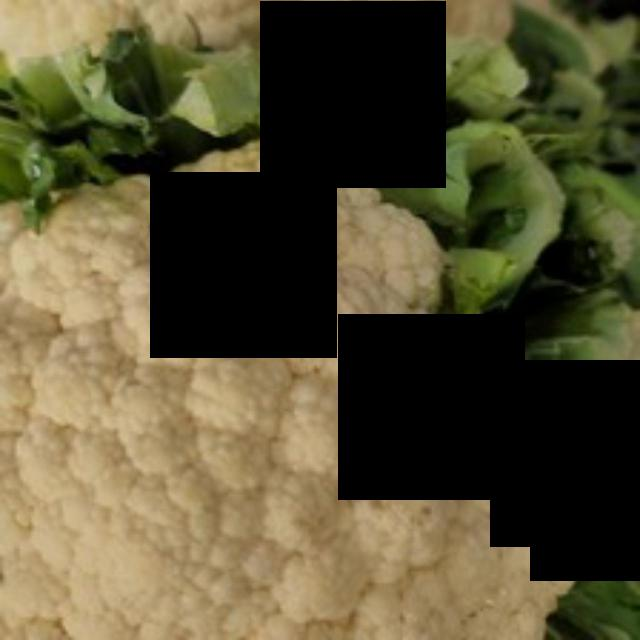cauliflower: (0, 123, 597, 637)
